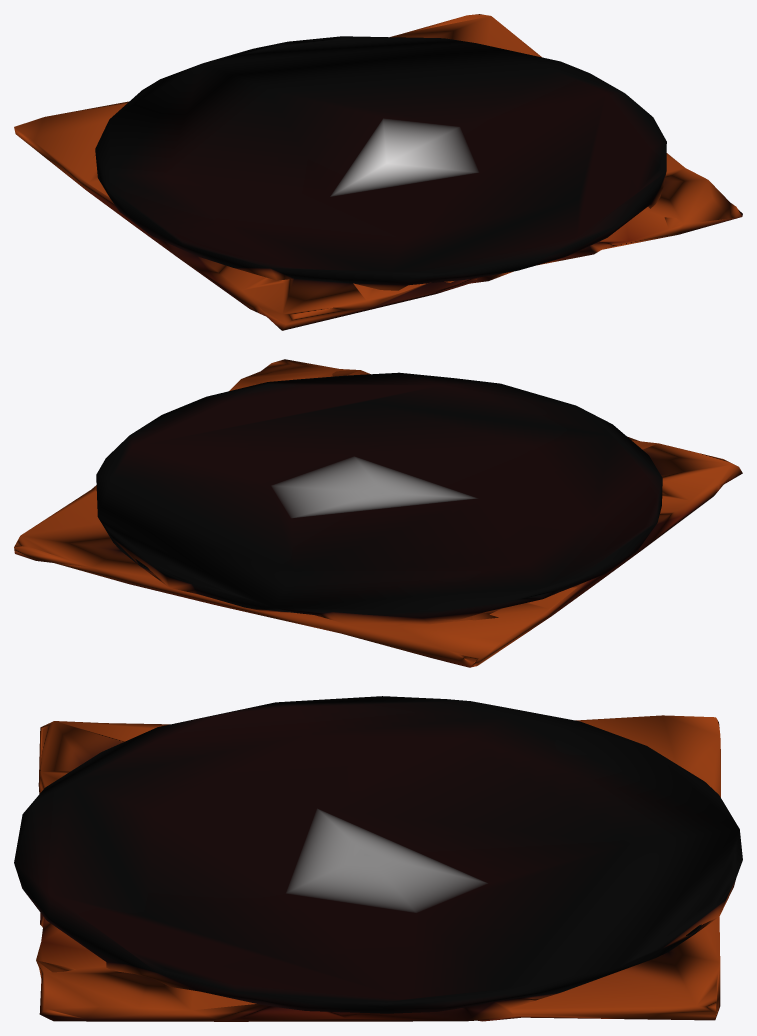
Rendered from gen3d-vinyl-record-lod1.glb.
3 views of the same model, one above another, from view 1: azimuth 30°, elevation 25°; view 2: azimuth 150°, elevation 25°; view 3: azimuth 270°, elevation 25° (orthographic). The views are drawn at different scales.
Parts seen in each view (by area): view 1: part_0; view 2: part_0; view 3: part_0.
Boxes of the visible parts, x1=… form: part_0: x1=14, y1=14, x2=742, y2=330; part_0: x1=14, y1=359, x2=742, y2=667; part_0: x1=14, y1=696, x2=742, y2=1021.
Size of the model in its own units: 22.59 by 0.9886 by 22.51.
